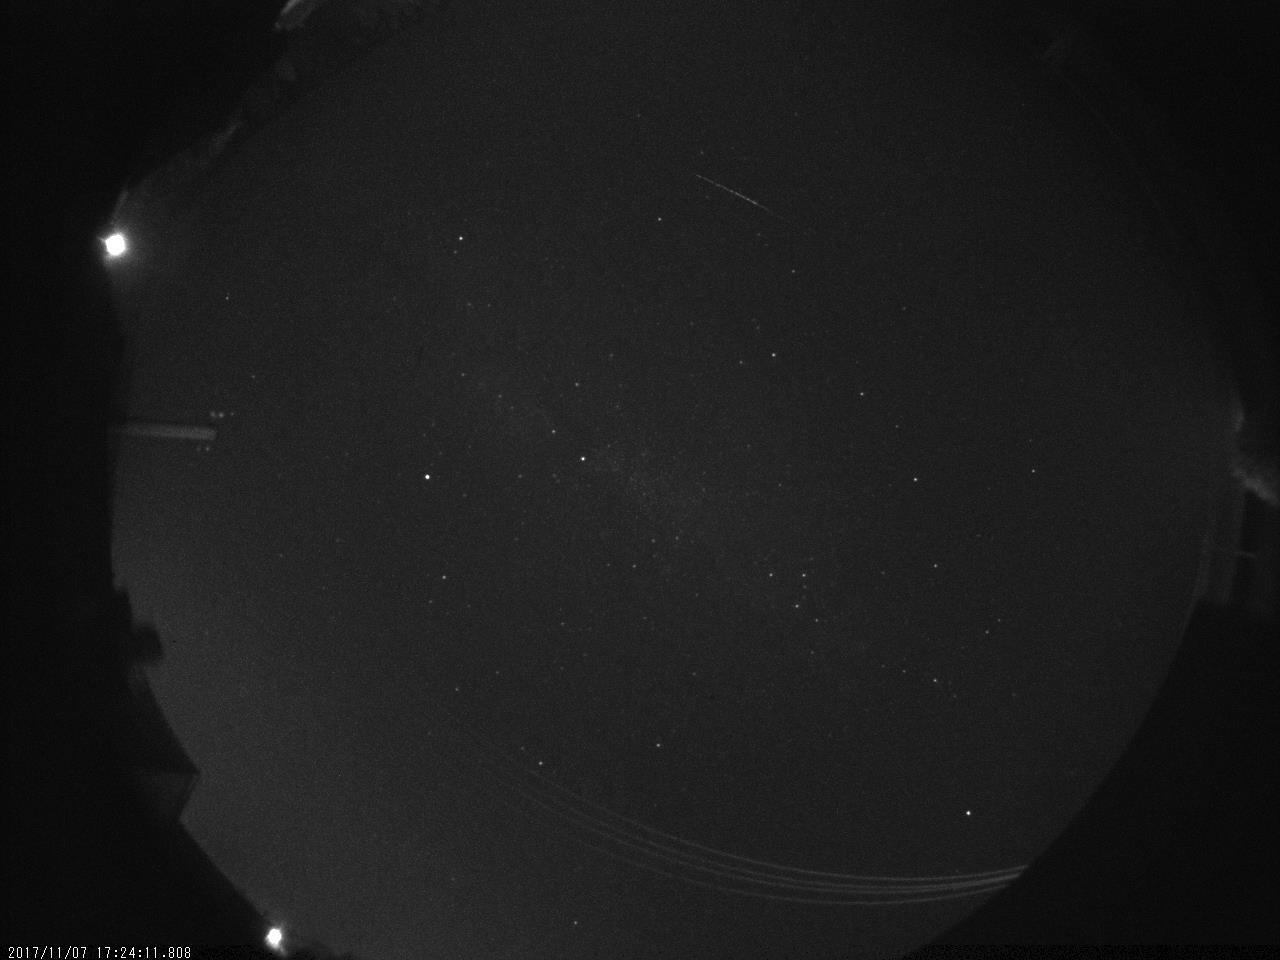meteor: (670, 156, 807, 233)
